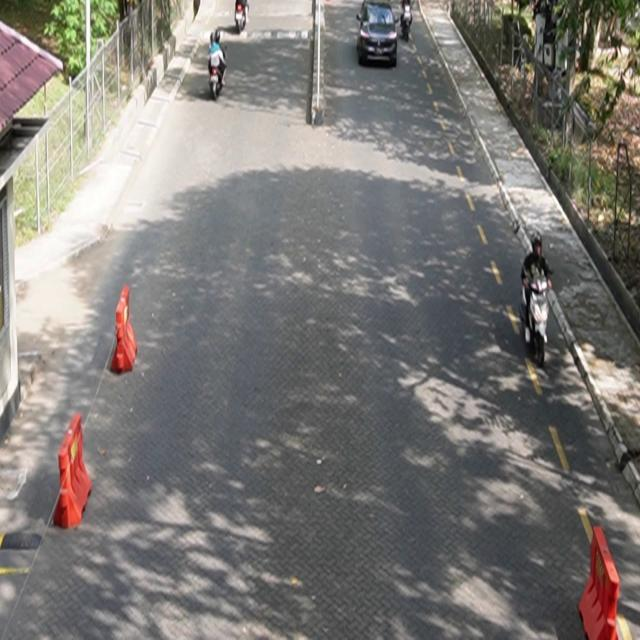car: (357, 1, 399, 68)
